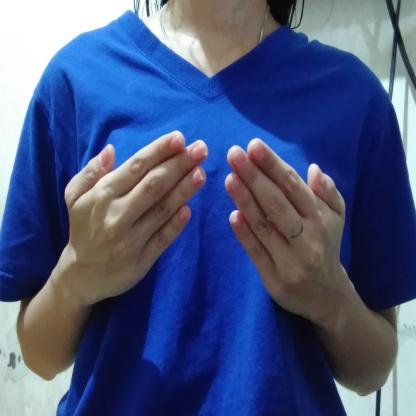night: (58, 130, 358, 325)
